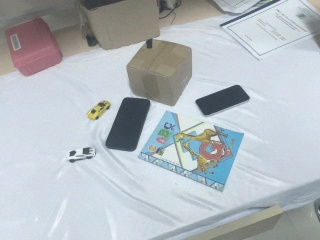book: (137, 108, 246, 193)
box: (127, 38, 193, 106), (76, 1, 159, 51), (6, 15, 65, 79)
phone: (105, 95, 152, 152), (195, 84, 250, 117)
toy_car: (86, 100, 111, 121), (67, 145, 96, 163)
